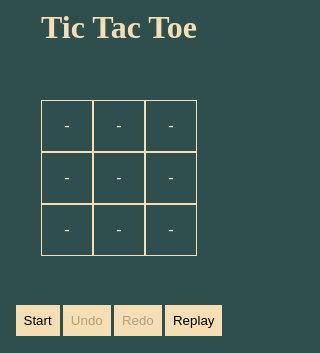
Test: tic-tac-toe › As a player › on click button › should be able to undo operation
Click the 1st text "-".
click(67, 126)  # box [41, 100, 93, 152]
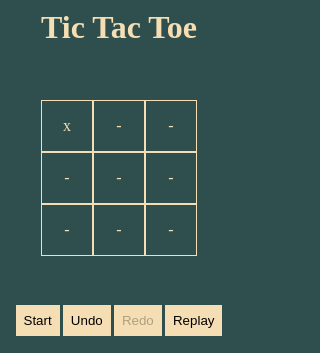
Click the button with test id "undo".
click(87, 321)  # box [63, 305, 111, 336]
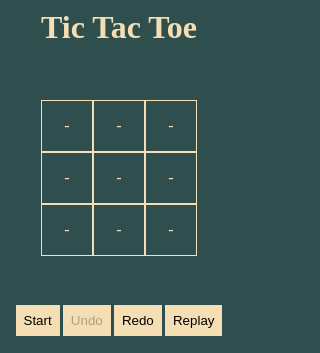
Check: the 1st text "-" is shown, box [41, 100, 93, 152]
